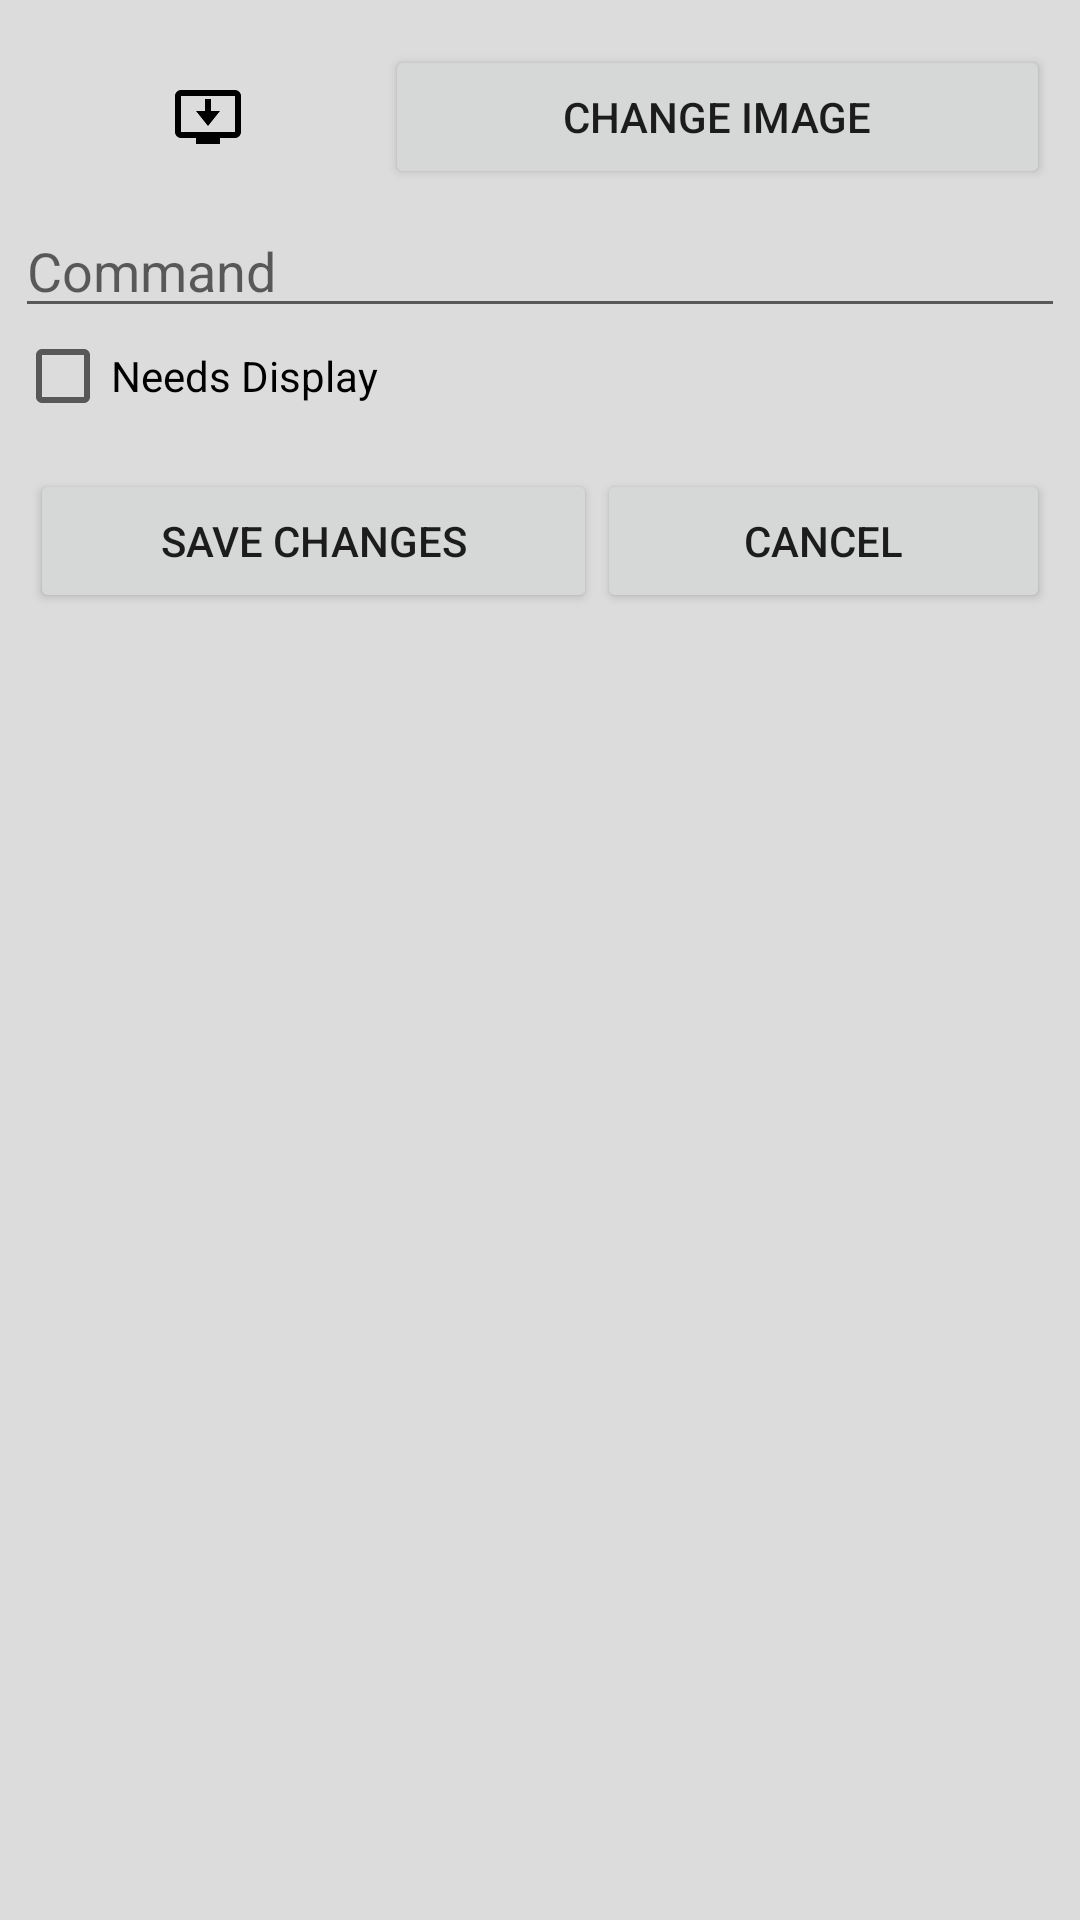

Screen size 1080px×1920px. Icon name, then its box in pixels as (x1, y1, x2, y2):
monitor down: (175, 90, 241, 144)
